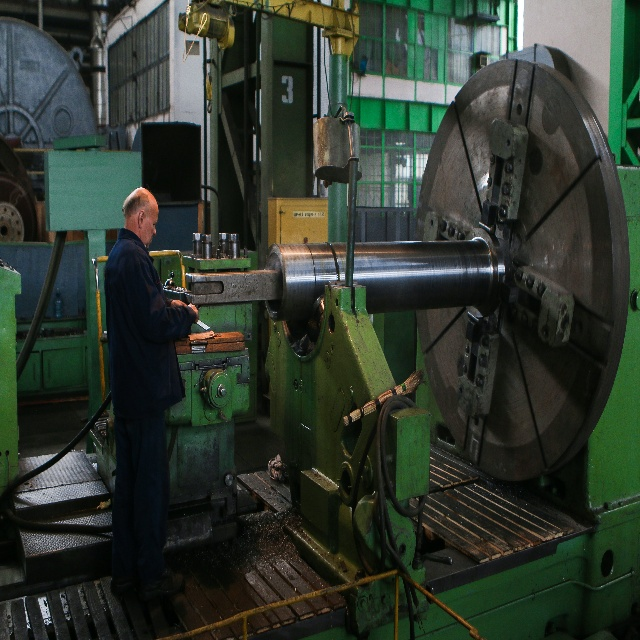Sin_guantes: (187, 301, 199, 325), (170, 299, 188, 308)
